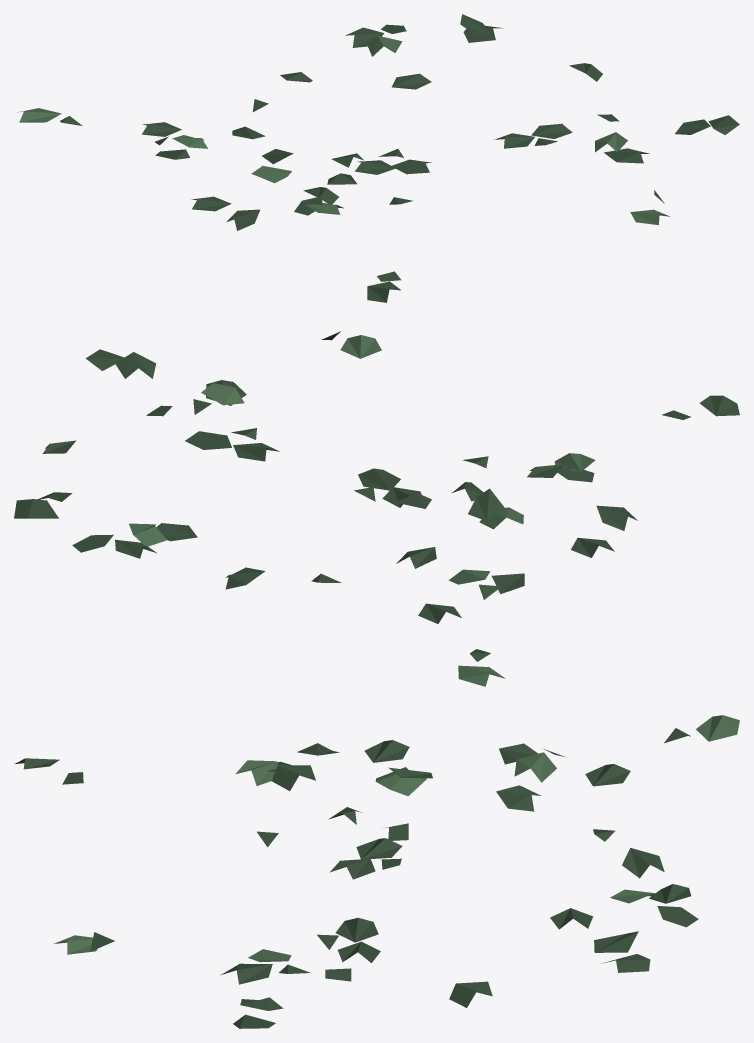
File: SM_Env_GroundLeaves_01.glb
The picture shows the model from 3 angles, top to bottom: view 1: azimuth 30°, elevation 25°; view 2: azimuth 150°, elevation 25°; view 3: azimuth 270°, elevation 25°; orthographic projection. The views are drawn at different scales.
Visible parts, largest first — view 1: SM_Env_GroundLeaves_01_part00; view 2: SM_Env_GroundLeaves_01_part00; view 3: SM_Env_GroundLeaves_01_part00.
Part boxes in pixels (x1=…): SM_Env_GroundLeaves_01_part00: x1=18, y1=14, x2=739, y2=302; SM_Env_GroundLeaves_01_part00: x1=14, y1=331, x2=739, y2=686; SM_Env_GroundLeaves_01_part00: x1=14, y1=715, x2=739, y2=1028.
Bounding box in the file's own units: 3.39 × 0.1853 × 3.22.
1 material, 1 textured.
